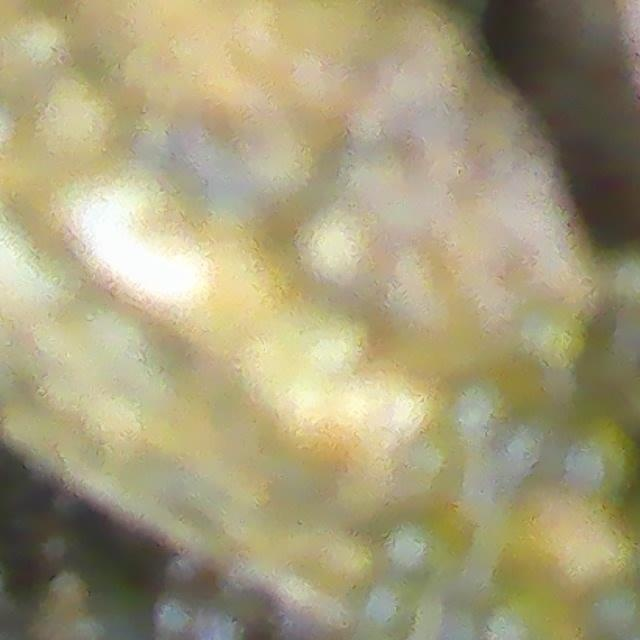SeaGrape: (554, 409, 640, 508), (392, 427, 471, 507), (513, 305, 591, 373), (385, 523, 461, 591), (354, 581, 428, 640), (583, 575, 640, 640)
